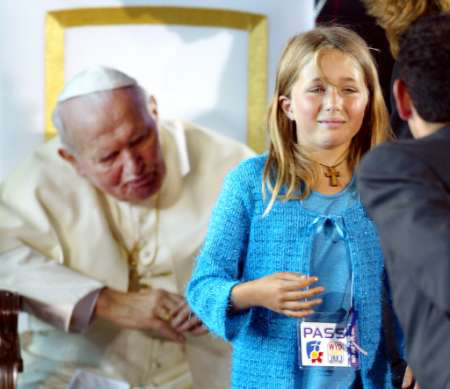Face: (79, 109, 169, 204), (289, 54, 370, 148)
